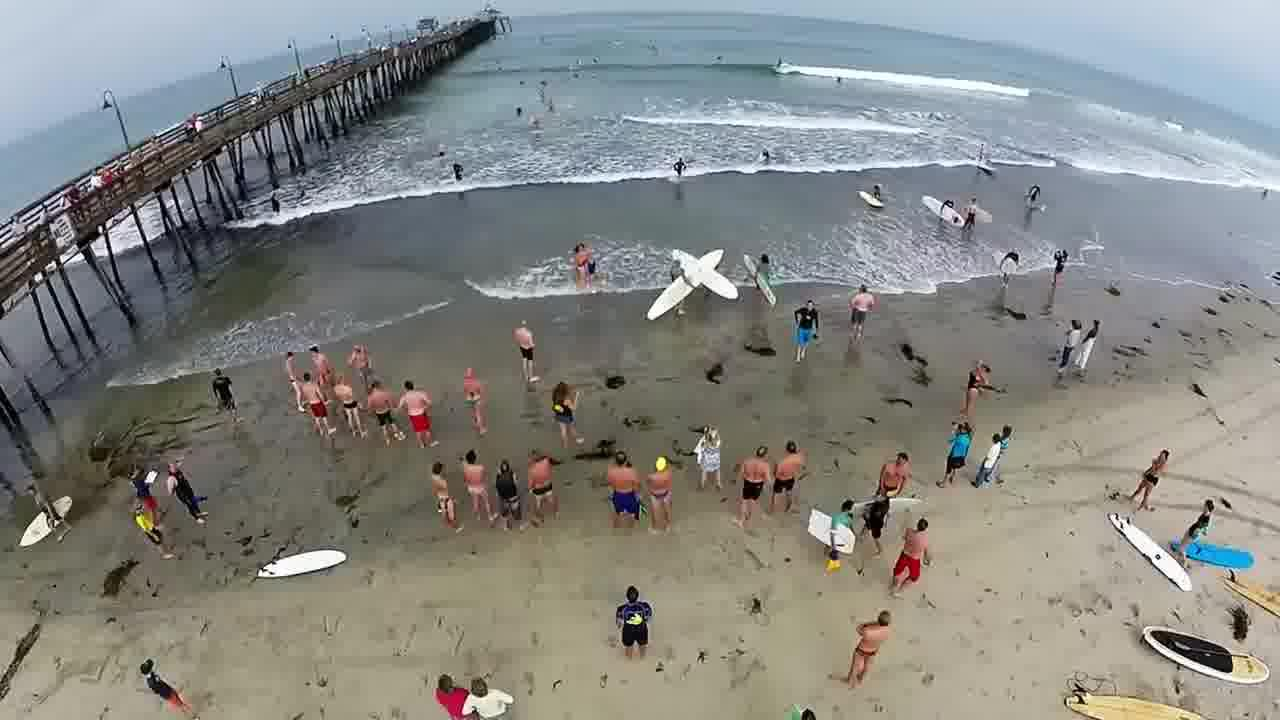swimmer: (659, 149, 701, 191), (566, 236, 604, 278), (435, 155, 477, 190)
